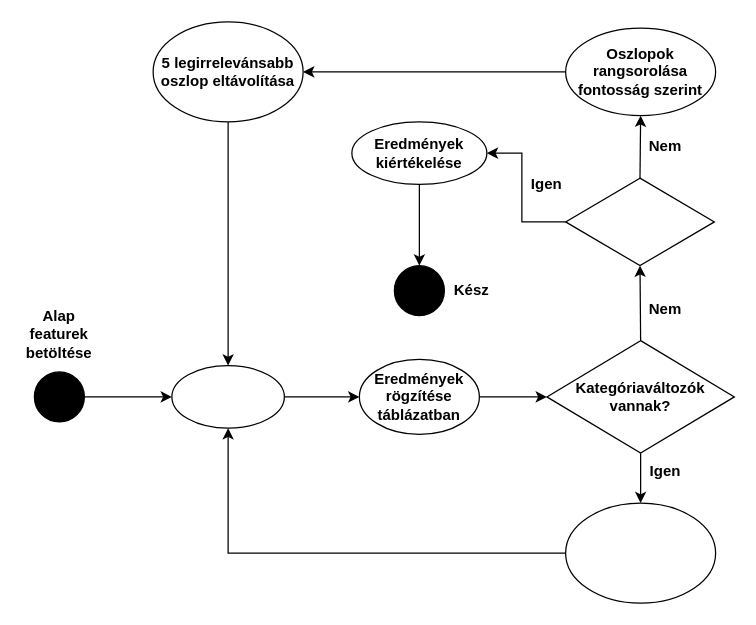
Some shapes in this 756 by 625 pixel diagram are drawn without their labels. The centre of each missing label's shape, as x and y in pixels:
16 oszlop maradt?: the point at 639,221
Kategória változó oszlop törlése: the point at 640,552
Modellek futtatása: the point at 227,396
